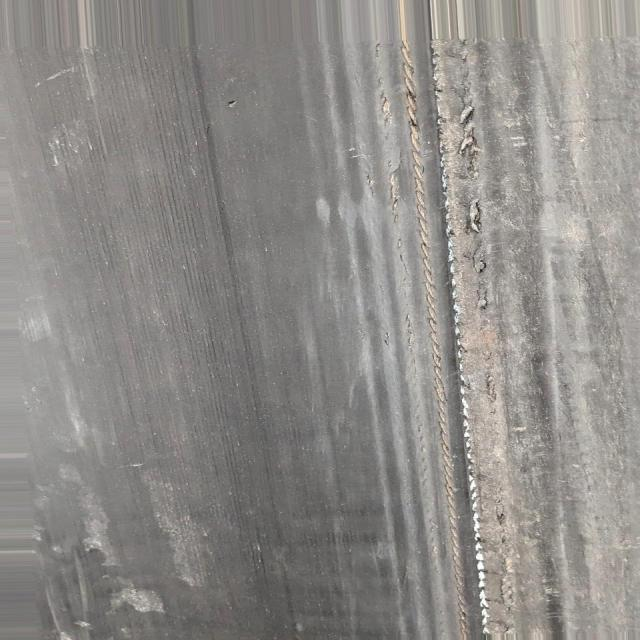Puncture: (218, 91, 247, 116)
Wear: (391, 40, 514, 640)
